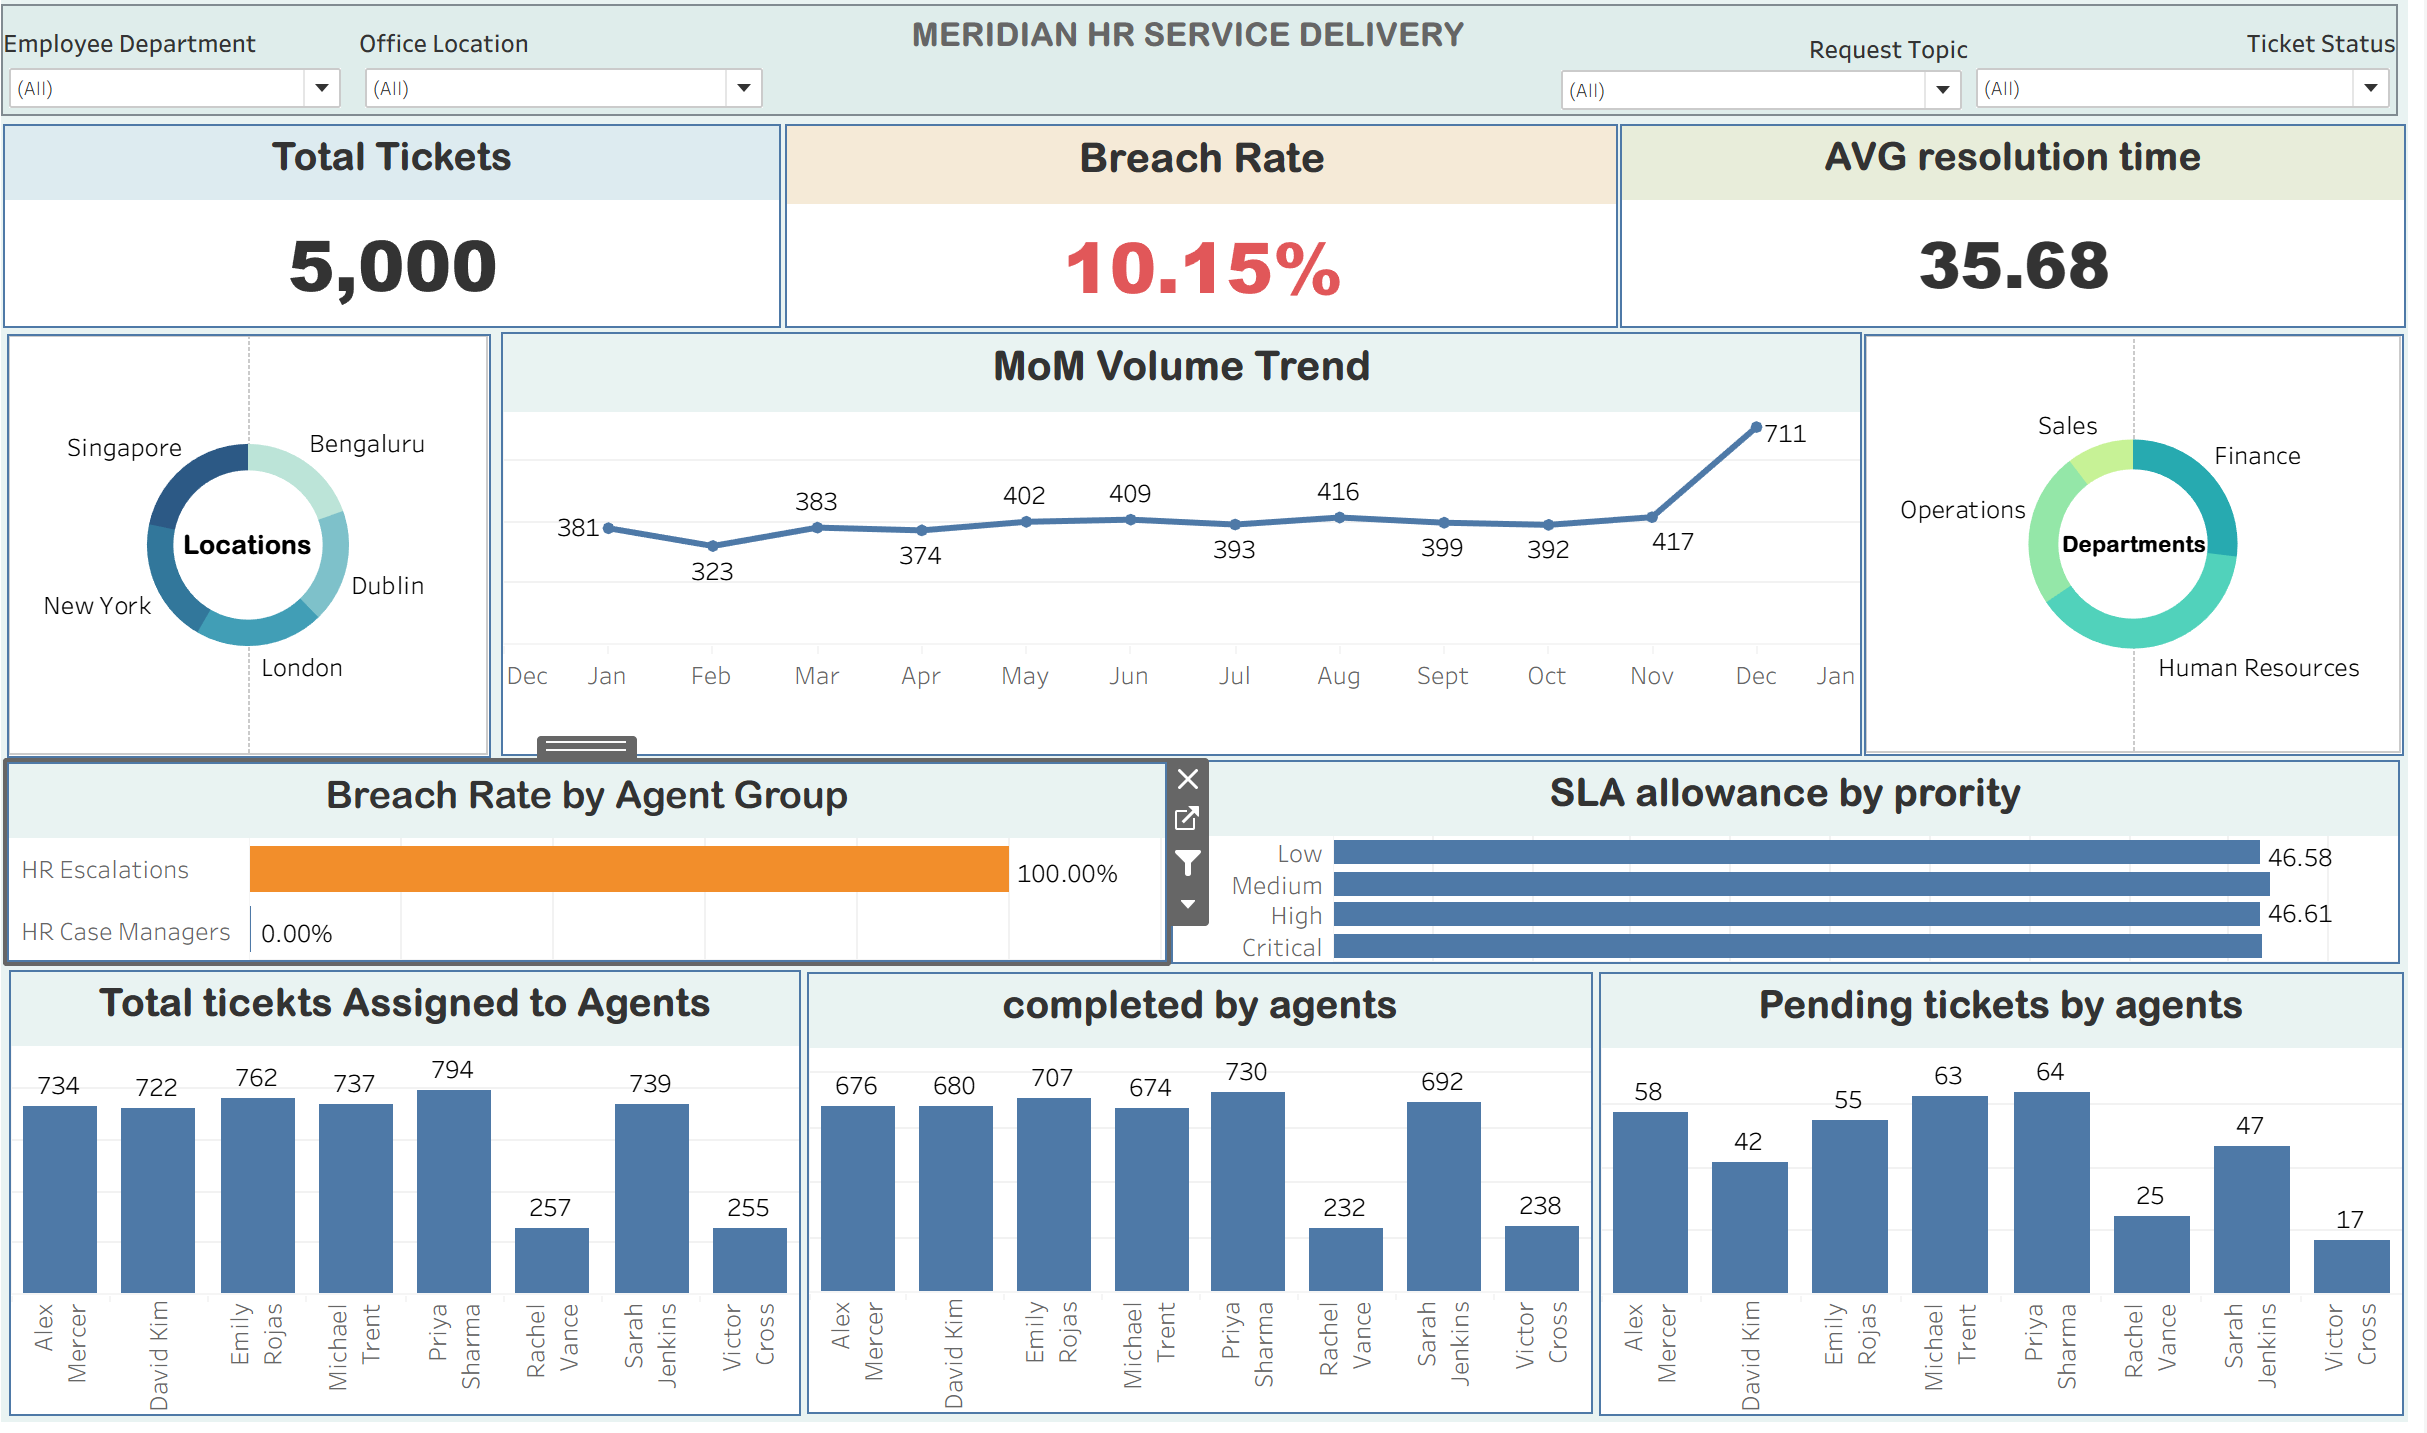

The page's visual inventory and layout, read from the dashboard file:
{"tool":"tableau","page":{"name":"Dashboard 1","canvas":[1000,1000],"units":"permille","ordinal":0},"visuals":[{"type":"text","box":[349.2,18.3,276.2,39.4]},{"type":"filter","title":"Total Tickets","param":"[federated.0vjsbg40esouln14avjyu1fj95qr].[none:office_location:nk]","box":[818.9,29.5,168,60.5]},{"type":"filter","title":"Total Tickets","param":"[federated.0vjsbg40esouln14avjyu1fj95qr].[none:request_topic:nk]","box":[177.9,32.4,169.7,60.5]},{"type":"filter","title":"Total Tickets","param":"[federated.0vjsbg40esouln14avjyu1fj95qr].[none:employee_department:nk]","box":[9,35.2,141,60.5]},{"type":"worksheet","title":"Breach Rate","mark":"Automatic","box":[327.9,97,341.8,140.7]},{"type":"worksheet","title":"AVG resolution time","mark":"Automatic","box":[670.5,97,322.1,140.7]},{"type":"worksheet","title":"Total Tickets","mark":"Automatic","box":[7.4,97.5,318.9,140.1]},{"type":"worksheet","title":"MoM Volume Trend","mark":"Automatic","rows":["ticket_id"],"cols":["created_on"],"box":[211.5,240.4,558.2,291.2]},{"type":"worksheet","title":"locations","mark":"Pie","cols":["Calculation_1600644351176711","Calculation_1600644351307785"],"box":[9,241.8,198.4,291.2]},{"type":"worksheet","title":"Departments","mark":"Pie","cols":["Calculation_1600644362891279","Calculation_1600644362952721"],"box":[770.5,241.9,221.3,289.7]},{"type":"worksheet","title":"SLA allowance by prority","mark":"Automatic","rows":["priority_level"],"cols":["Calculation_1600644236337153"],"box":[486.1,534.3,504.1,140.1]},{"type":"worksheet","title":"Breach Rate by Agent Group","mark":"Automatic","rows":["agent_group"],"cols":["Calculation_1600644206194688"],"box":[9,535.7,475.4,137.4]},{"type":"worksheet","title":"tickets assigned to agents","mark":"Automatic","rows":["ticket_id"],"cols":["assigned_agent"],"box":[9.8,677.9,324.6,306.6]},{"type":"worksheet","title":"completed by agents","mark":"Automatic","rows":["Calculation_1600644319031299"],"cols":["assigned_agent"],"box":[336.9,679.3,322.1,303.8]},{"type":"worksheet","title":"Pending tickets","mark":"Automatic","rows":["Calculation_1600644322701317"],"cols":["assigned_agent"],"box":[661.5,679.3,330.3,305.2]}]}

Visuals, with their boxes on the dashboard's canvas, which has no fixed pixel size, in thousandths of its width and height (x1, y1, x2, y2). These are canvas units, not pixel positions in the 2427x1433 screenshot, which may show the page scaled, cropped or inside an application window:
text: [x1=349, y1=18, x2=625, y2=58]
"Total Tickets" filter: [x1=819, y1=30, x2=987, y2=90]
"Total Tickets" filter: [x1=178, y1=32, x2=348, y2=93]
"Total Tickets" filter: [x1=9, y1=35, x2=150, y2=96]
"Breach Rate" worksheet: [x1=328, y1=97, x2=670, y2=238]
"AVG resolution time" worksheet: [x1=670, y1=97, x2=993, y2=238]
"Total Tickets" worksheet: [x1=7, y1=98, x2=326, y2=238]
"MoM Volume Trend" worksheet: [x1=212, y1=240, x2=770, y2=532]
"locations" worksheet (Pie marks): [x1=9, y1=242, x2=207, y2=533]
"Departments" worksheet (Pie marks): [x1=770, y1=242, x2=992, y2=532]
"SLA allowance by prority" worksheet: [x1=486, y1=534, x2=990, y2=674]
"Breach Rate by Agent Group" worksheet: [x1=9, y1=536, x2=484, y2=673]
"tickets assigned to agents" worksheet: [x1=10, y1=678, x2=334, y2=984]
"completed by agents" worksheet: [x1=337, y1=679, x2=659, y2=983]
"Pending tickets" worksheet: [x1=662, y1=679, x2=992, y2=984]
